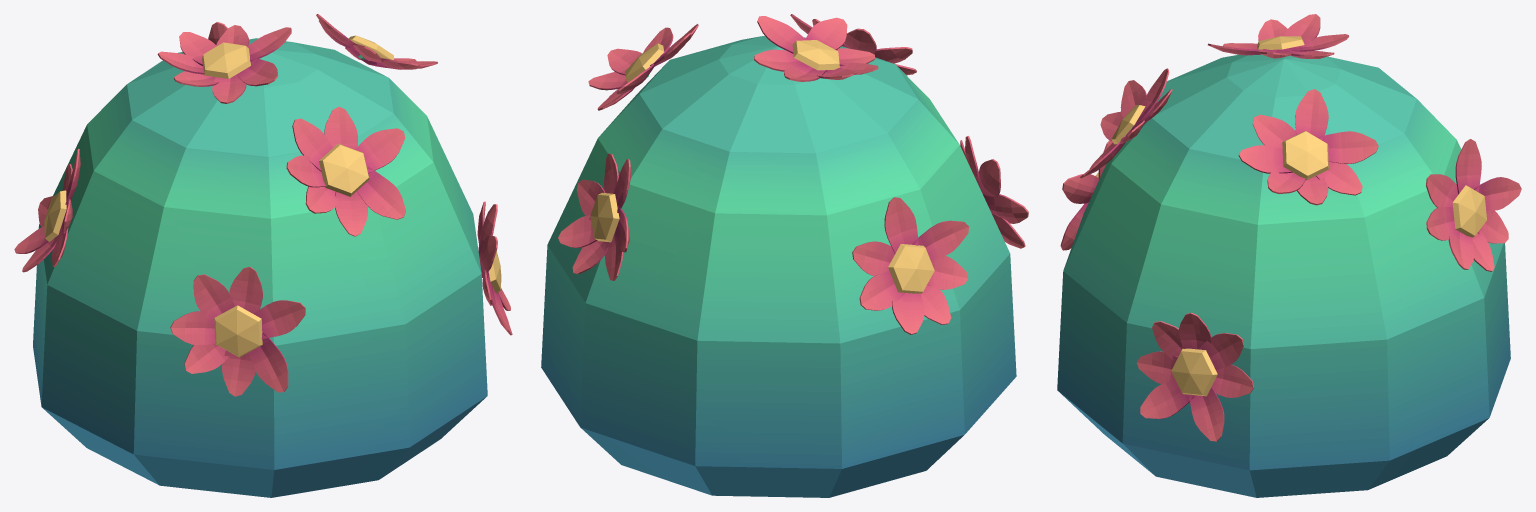
Rendered from bush_3.gltf.
3 renders of one model, left to right at view 1: azimuth 30°, elevation 25°; view 2: azimuth 150°, elevation 25°; view 3: azimuth 270°, elevation 25°, orthographic. The views are drawn at different scales.
Visible parts, largest first — view 1: Object_16; view 2: Object_16; view 3: Object_16.
Boxes of the visible parts, bbox=[...] form: Object_16: bbox=[14, 14, 512, 497]; Object_16: bbox=[541, 14, 1028, 497]; Object_16: bbox=[1057, 14, 1521, 497].
Size of the model in its own units: 3.58 by 3.46 by 3.52.
1 material, 1 textured.
